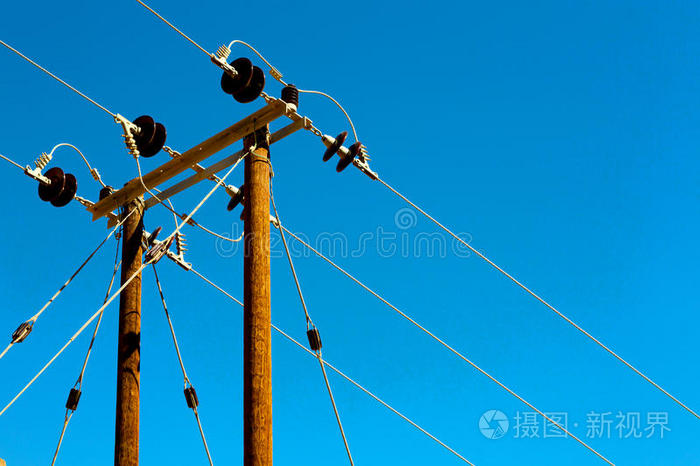insulator: (219, 57, 269, 102), (130, 114, 167, 160), (319, 131, 358, 172), (39, 169, 79, 208)
